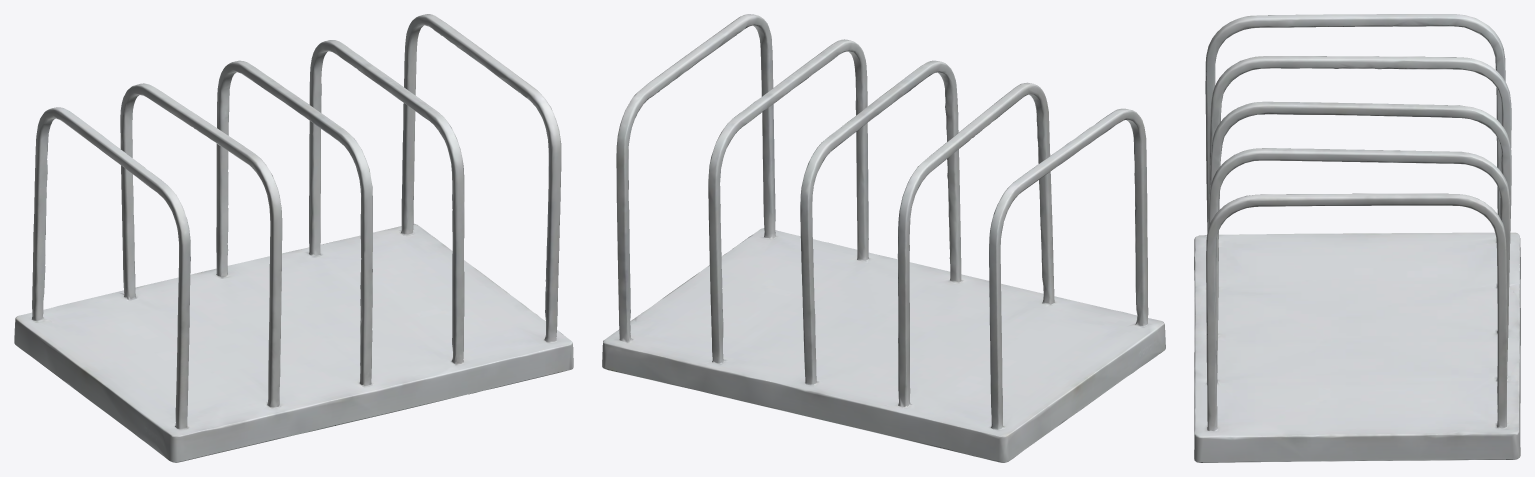
The model's file is Poppin_File_Sorter_White.glb.
3 renders of one model, left to right at view 1: azimuth 30°, elevation 25°; view 2: azimuth 150°, elevation 25°; view 3: azimuth 270°, elevation 25°, orthographic.
Visible parts, largest first — view 1: Poppin_File_Sorter_White; view 2: Poppin_File_Sorter_White; view 3: Poppin_File_Sorter_White.
Part boxes in pixels (bbox=[...]): Poppin_File_Sorter_White: bbox=[14, 14, 573, 462]; Poppin_File_Sorter_White: bbox=[602, 14, 1165, 462]; Poppin_File_Sorter_White: bbox=[1194, 14, 1520, 462].
Size of the model in its own units: 0.2506 by 0.1561 by 0.1739.
1 material, 1 textured.
